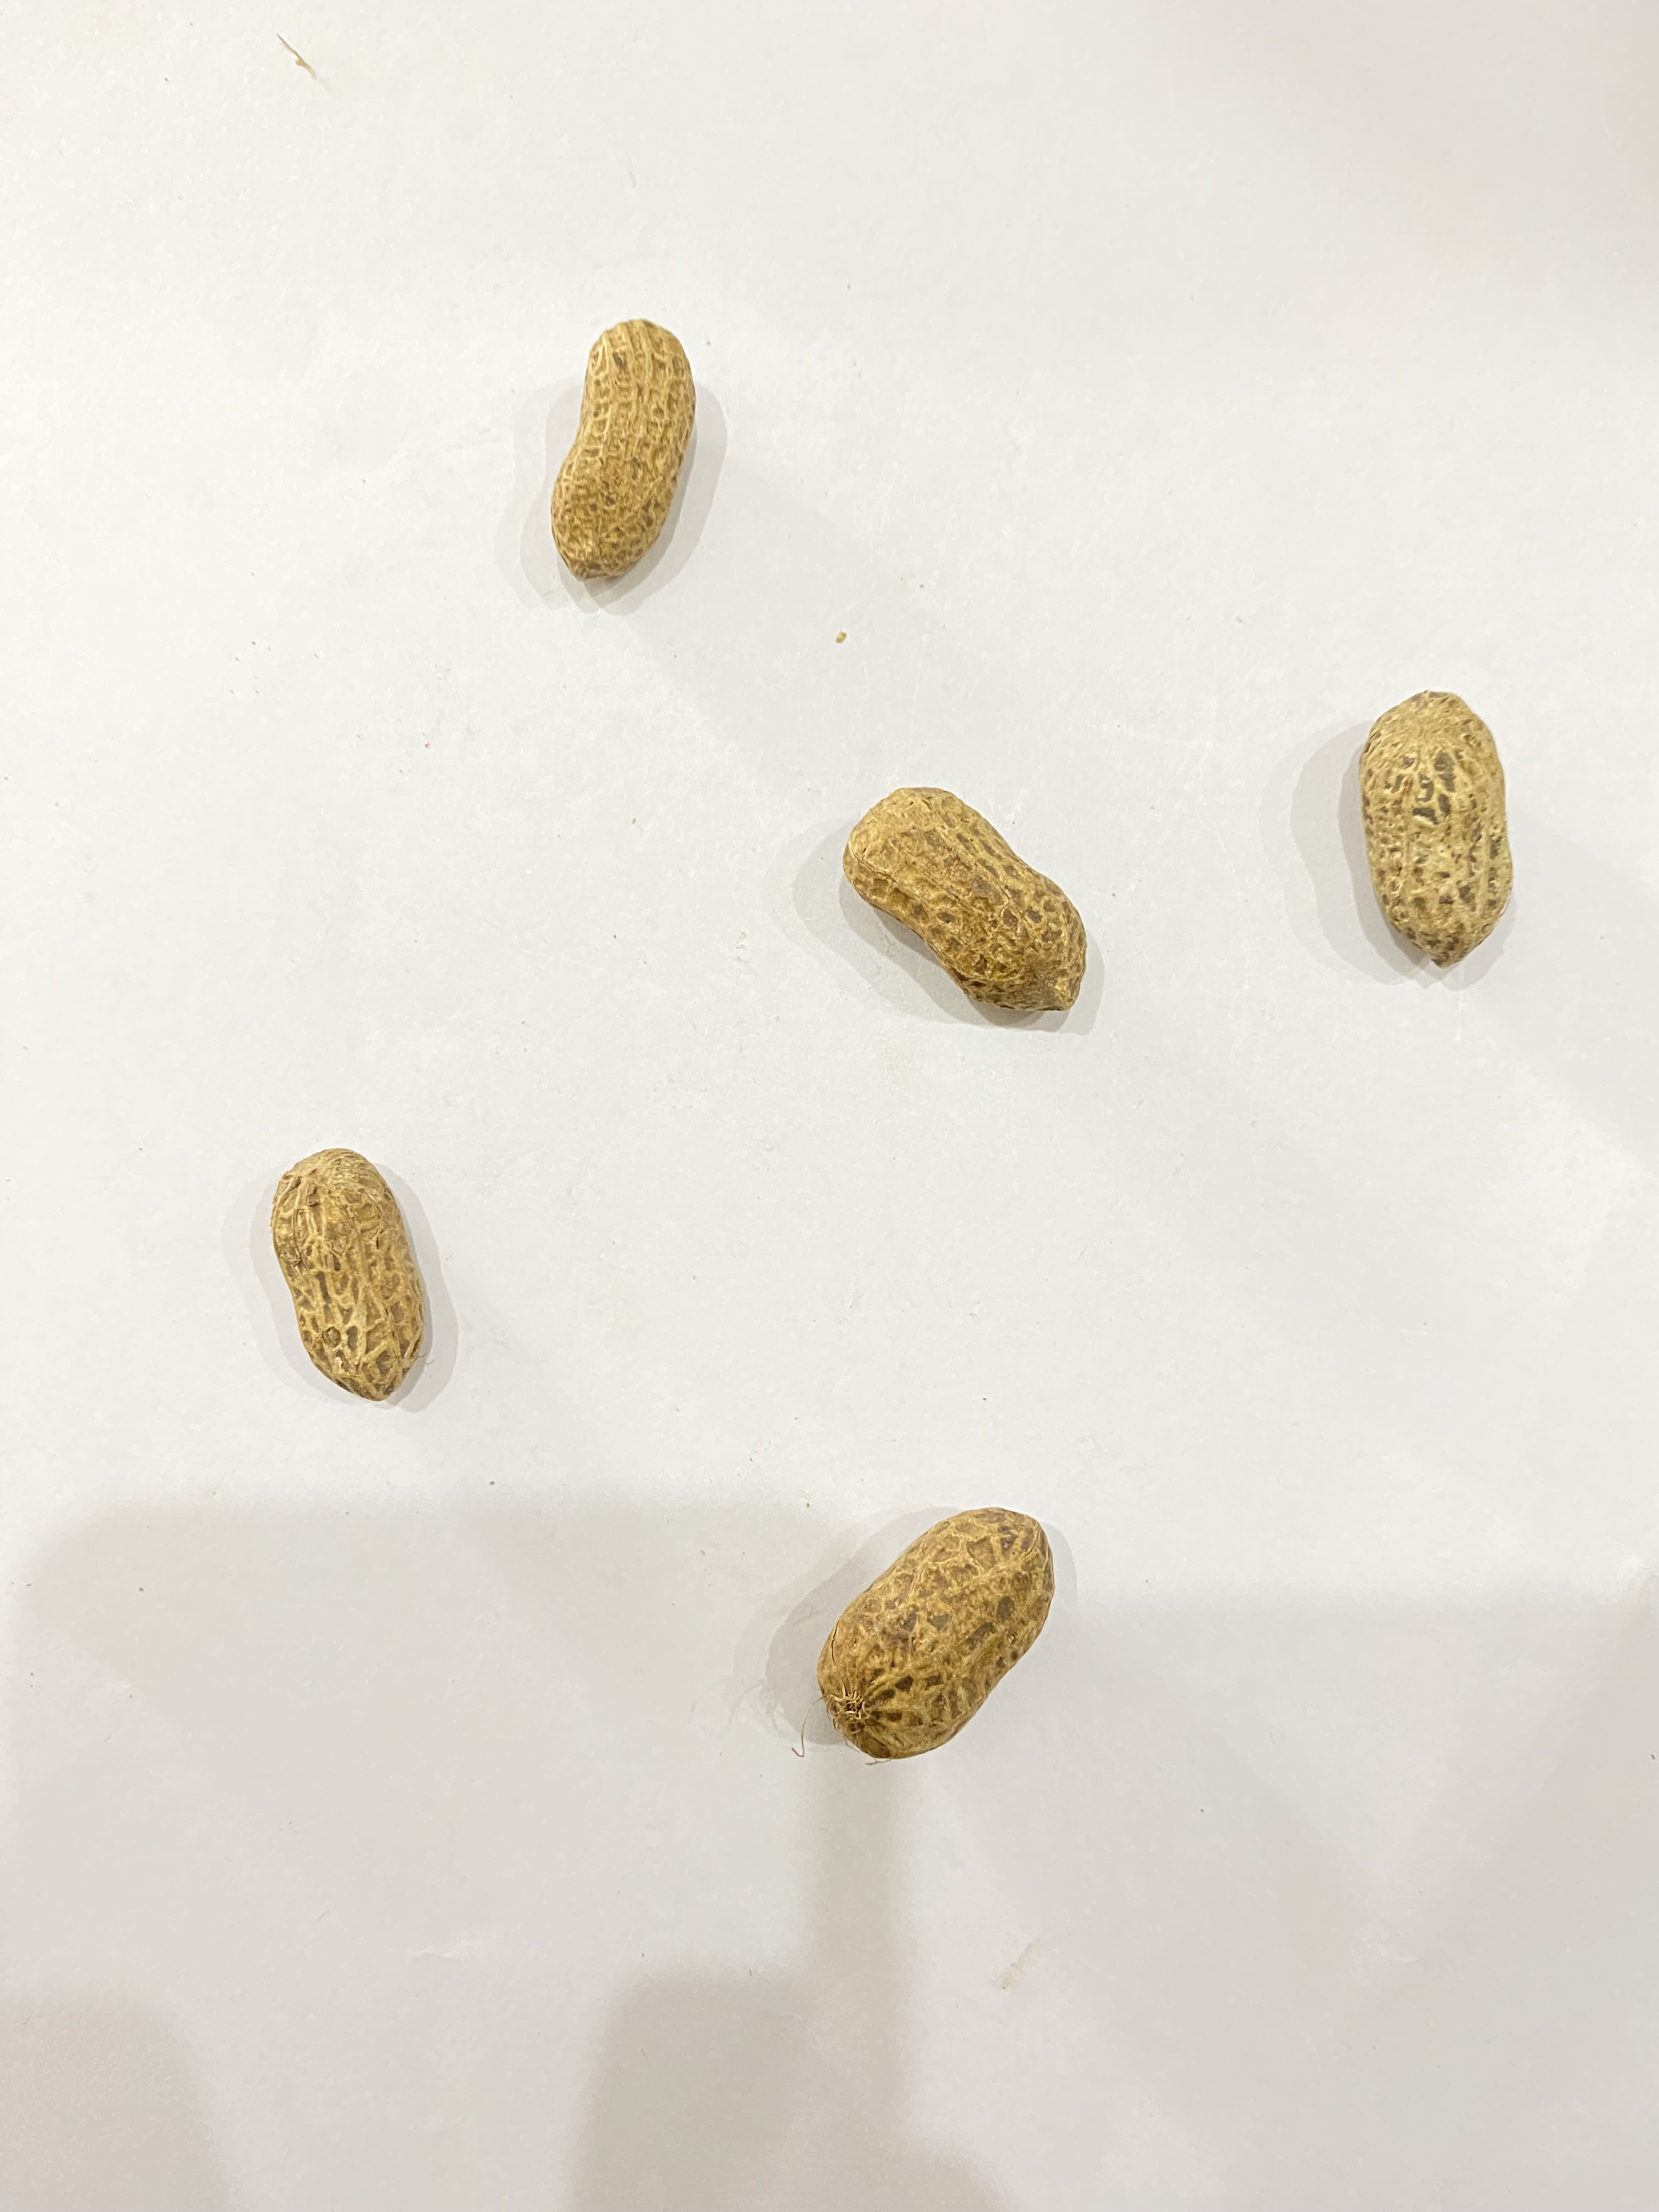kacang1: (796, 1508, 1098, 1759), (1333, 679, 1567, 970), (247, 1144, 484, 1411)
kacang2: (835, 782, 1114, 1017), (537, 280, 701, 596)
